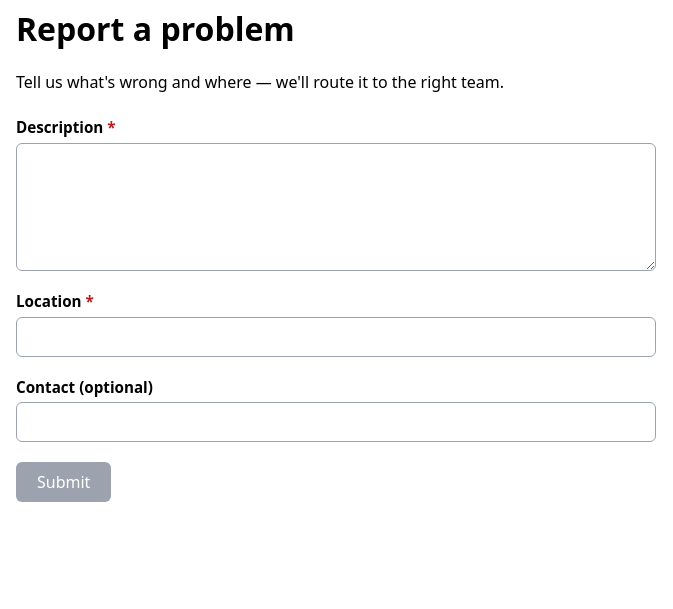
Scenario: SubmitPage › shows a generic error state on an unexpected failure instead of crashing
The width and height of the screenshot is (673, 609).
Type "There is a broken water pipe flooding the street." into the text box labelled "Description *" at (336, 207), box x1=16 y1=143 x2=656 y2=271
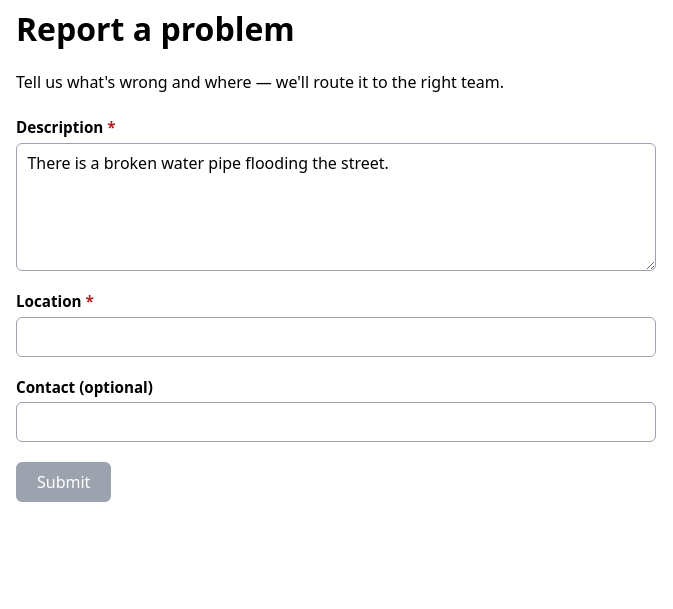
Type "Block 4, Main Street" into the field labelled "Location *" at (336, 337), box x1=16 y1=317 x2=656 y2=357
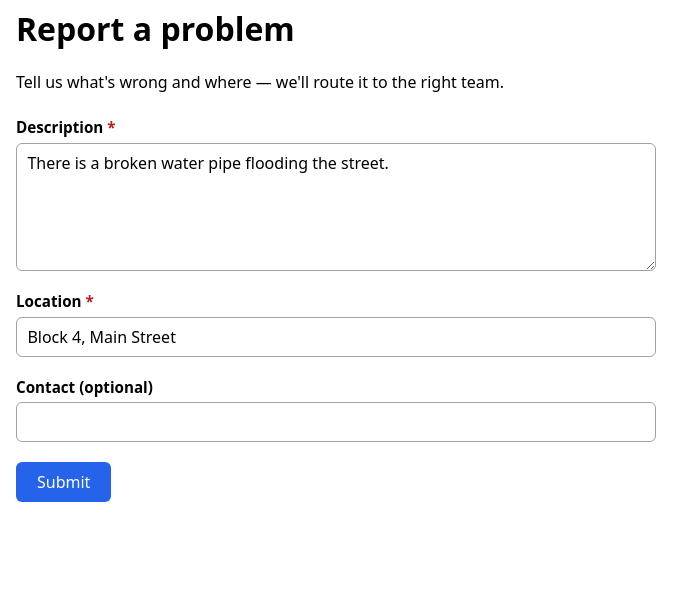
Click the button "Submit" at (64, 482), box x1=16 y1=462 x2=111 y2=502
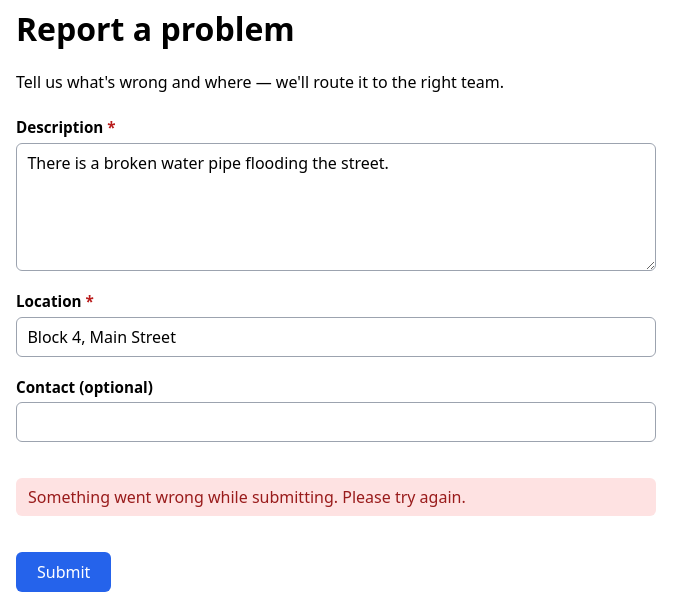
Expected: the text "Something went wrong while submitting. Please try again." is shown, x1=16 y1=478 x2=656 y2=516
